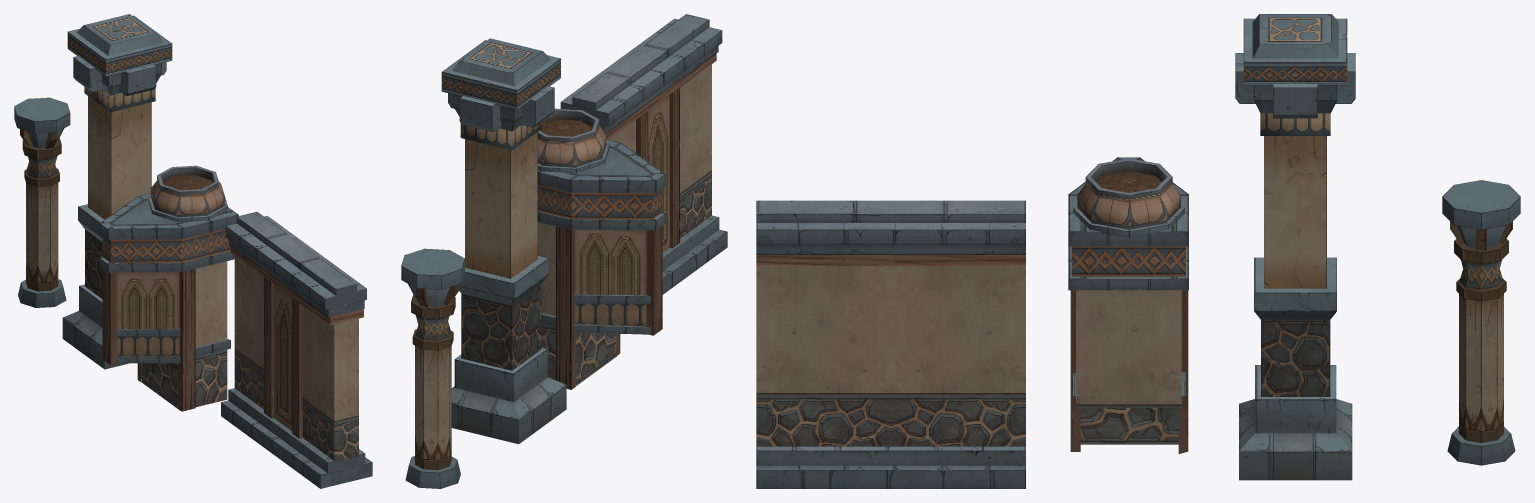
Rendered from 2_CZ_LanQiang_01.FBX.
3 renders of one model, left to right at view 1: azimuth 30°, elevation 25°; view 2: azimuth 150°, elevation 25°; view 3: azimuth 270°, elevation 25°, orthographic. The views are drawn at different scales.
Visible parts, largest first — view 1: 2_CZ_LanQiang_02_01, 2_CZ_LanQiang_03_01, 2_CZ_LanQiang_01_05, 2_CZ_LanQiang_04_01, 2_CZ_LanQiang_01_01, 2_CZ_LanQiang_03_02, 2_CZ_LanQiang_01_03, 2_CZ_LanQiang_02_02, 2_CZ_LanQiang_01_02, 2_CZ_LanQiang_01_06, 2_CZ_LanQiang_01_04, 2_CZ_LanQiang_01_07; view 2: 2_CZ_LanQiang_03_01, 2_CZ_LanQiang_02_01, 2_CZ_LanQiang_04_01, 2_CZ_LanQiang_01_01, 2_CZ_LanQiang_03_02, 2_CZ_LanQiang_02_02, 2_CZ_LanQiang_01_05, 2_CZ_LanQiang_01_03, 2_CZ_LanQiang_01_04, 2_CZ_LanQiang_01_06, 2_CZ_LanQiang_01_02, 2_CZ_LanQiang_01_07; view 3: 2_CZ_LanQiang_01_05, 2_CZ_LanQiang_03_01, 2_CZ_LanQiang_02_01, 2_CZ_LanQiang_01_01, 2_CZ_LanQiang_04_01, 2_CZ_LanQiang_01_02, 2_CZ_LanQiang_01_03, 2_CZ_LanQiang_03_02, 2_CZ_LanQiang_02_02.
Boxes of the visible parts, <box> form: 2_CZ_LanQiang_02_01: <box>99,193,238,411</box>; 2_CZ_LanQiang_03_01: <box>62,87,155,369</box>; 2_CZ_LanQiang_01_05: <box>234,256,358,421</box>; 2_CZ_LanQiang_04_01: <box>14,97,70,307</box>; 2_CZ_LanQiang_01_01: <box>225,212,366,325</box>; 2_CZ_LanQiang_03_02: <box>67,14,172,96</box>; 2_CZ_LanQiang_01_03: <box>221,388,372,488</box>; 2_CZ_LanQiang_02_02: <box>148,165,227,222</box>; 2_CZ_LanQiang_01_02: <box>234,349,358,463</box>; 2_CZ_LanQiang_01_06: <box>264,321,302,419</box>; 2_CZ_LanQiang_01_04: <box>264,277,302,346</box>; 2_CZ_LanQiang_01_07: <box>264,394,302,438</box>; 2_CZ_LanQiang_03_01: <box>451,121,566,444</box>; 2_CZ_LanQiang_02_01: <box>537,139,665,389</box>; 2_CZ_LanQiang_04_01: <box>401,248,464,488</box>; 2_CZ_LanQiang_01_01: <box>560,14,722,139</box>; 2_CZ_LanQiang_03_02: <box>441,38,560,132</box>; 2_CZ_LanQiang_02_02: <box>537,108,609,173</box>; 2_CZ_LanQiang_01_05: <box>602,64,711,193</box>; 2_CZ_LanQiang_01_03: <box>662,215,727,294</box>; 2_CZ_LanQiang_01_04: <box>636,88,679,161</box>; 2_CZ_LanQiang_01_06: <box>648,138,679,231</box>; 2_CZ_LanQiang_01_02: <box>680,171,711,238</box>; 2_CZ_LanQiang_01_07: <box>662,222,679,252</box>; 2_CZ_LanQiang_01_05: <box>756,265,1025,393</box>; 2_CZ_LanQiang_03_01: <box>1239,113,1352,480</box>; 2_CZ_LanQiang_02_01: <box>1068,157,1188,453</box>; 2_CZ_LanQiang_01_01: <box>756,200,1025,265</box>; 2_CZ_LanQiang_04_01: <box>1442,180,1520,465</box>; 2_CZ_LanQiang_01_02: <box>756,393,1025,446</box>; 2_CZ_LanQiang_01_03: <box>756,446,1025,488</box>; 2_CZ_LanQiang_03_02: <box>1235,14,1355,118</box>; 2_CZ_LanQiang_02_02: <box>1073,158,1184,237</box>.
Size of the model in its own units: 532 by 1233 by 1985.
1 material, 1 textured.
